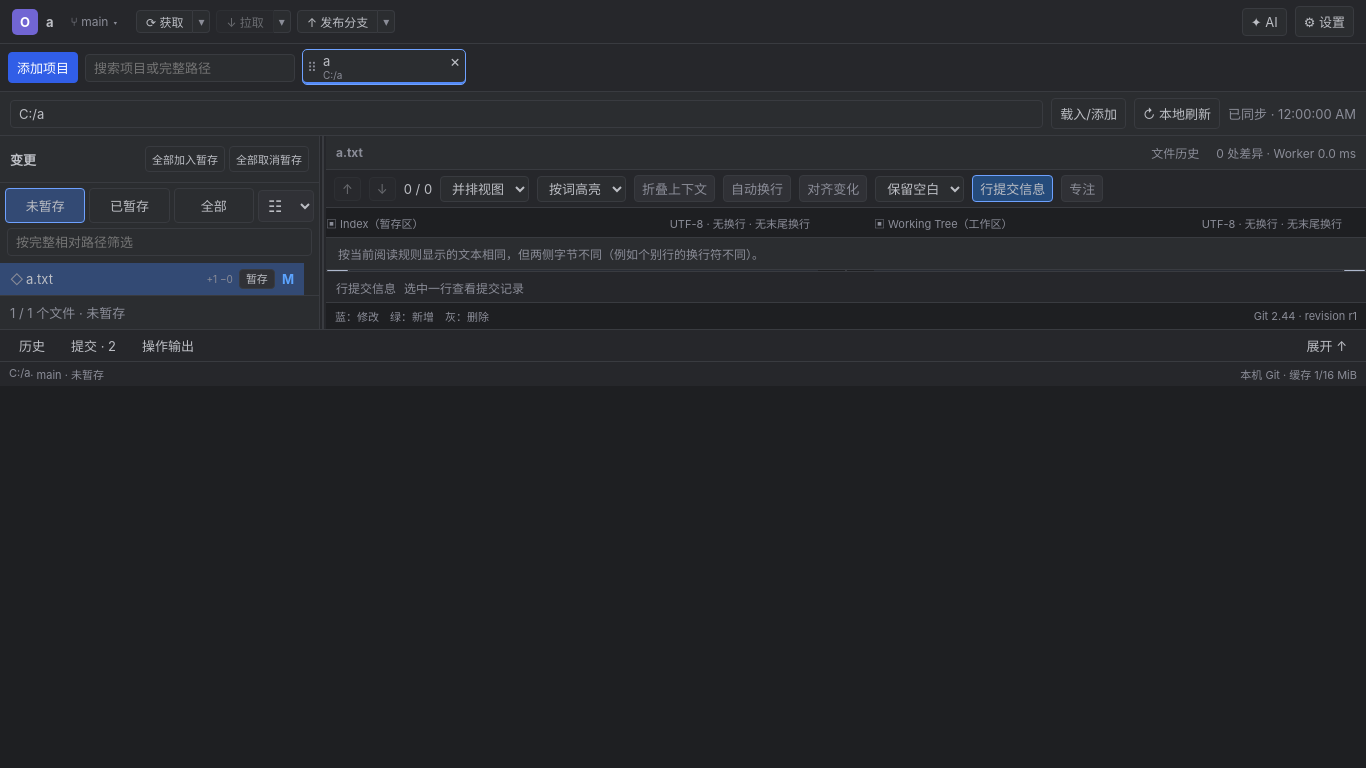
it: 工单 #36：忽略规则与 AI 配置（DOM，不调用原生窗口） › 提交面板列出忽略但已暂存的文件，不擅自取消暂存
Click the tab "提交 · 2".
click(94, 346)  # box [60, 332, 127, 358]
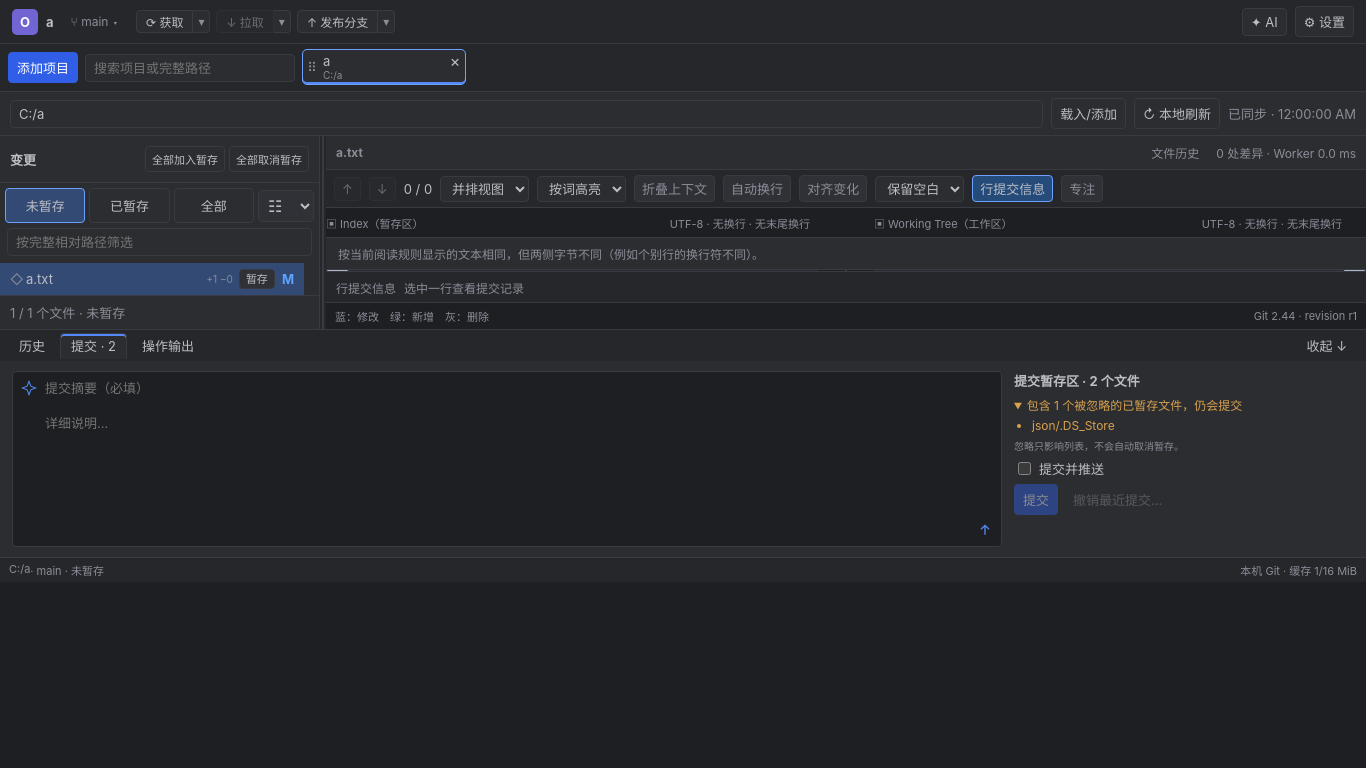
Expected: the element with class "ignore-commit-warning" shows "仍会提交", [1059, 398, 1242, 413]
Expected: the element with class "ignore-commit-warning" shows "json/.DS_Store", [1032, 418, 1115, 433]
